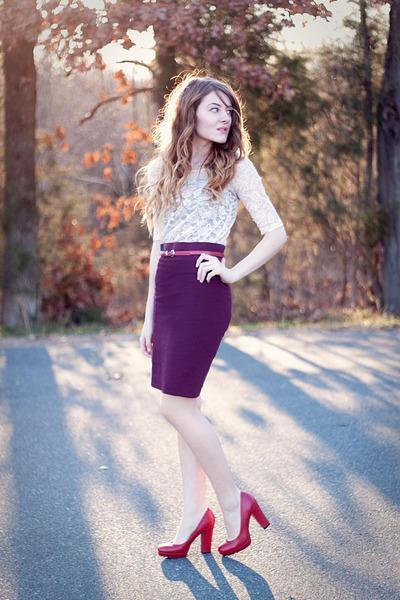shirt: (141, 180, 245, 245)
shoe: (180, 492, 269, 556)
skirt: (151, 242, 231, 397)
